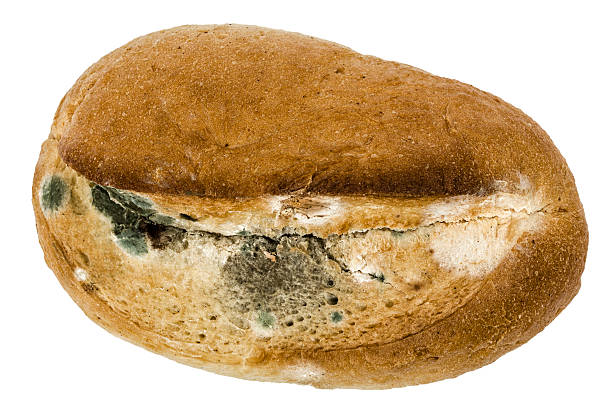mold_bread: (215, 223, 351, 333), (88, 178, 193, 261), (34, 164, 72, 220), (389, 225, 411, 247), (372, 268, 389, 290)
